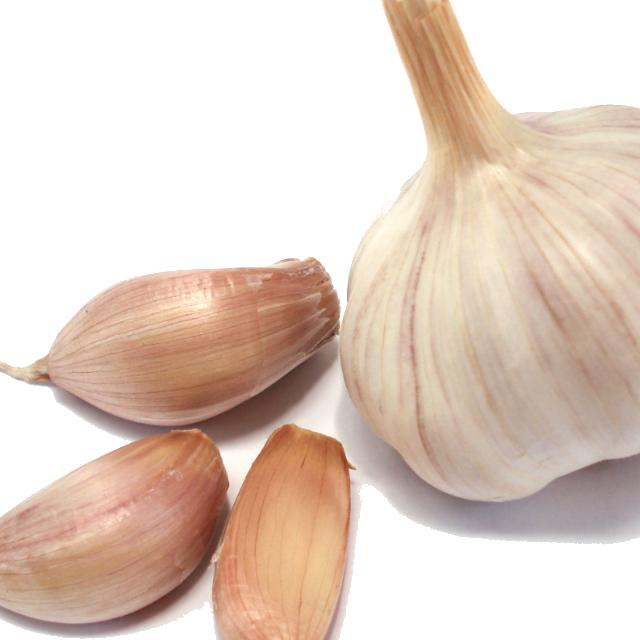garlic: (347, 59, 640, 510), (3, 250, 344, 424), (0, 424, 213, 635), (217, 424, 357, 640)
